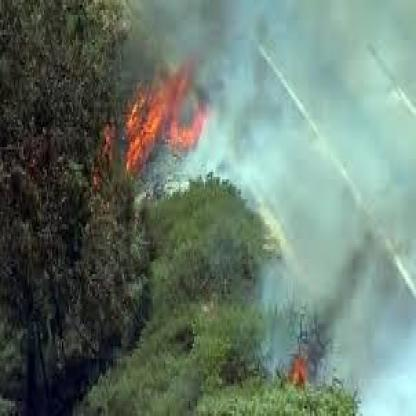Fire: (90, 56, 212, 191)
